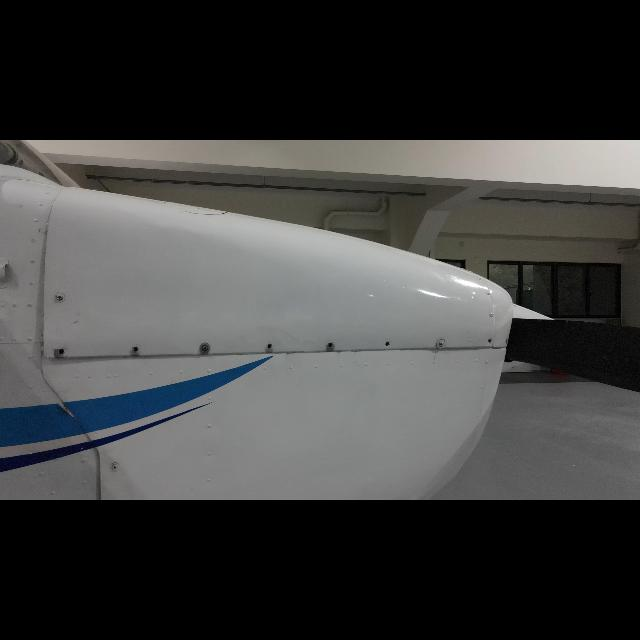Missing Fastener: (383, 340, 393, 348), (57, 348, 65, 356), (327, 342, 335, 350), (487, 338, 493, 347), (131, 347, 139, 353), (266, 343, 274, 349)
